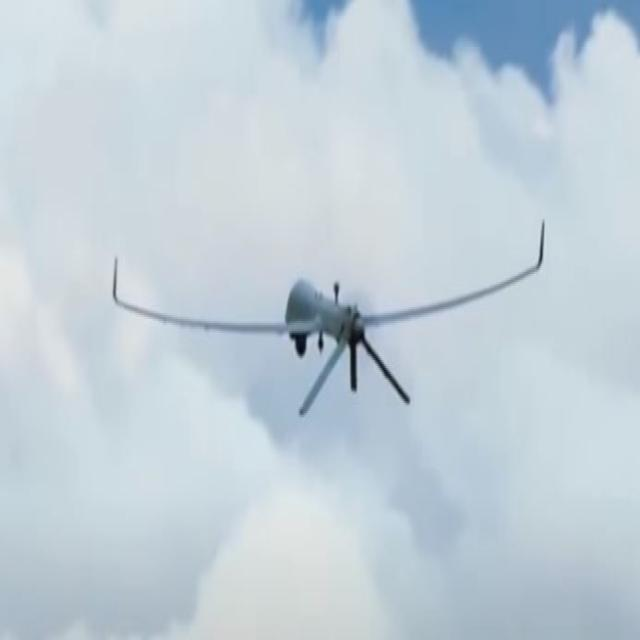iha: (104, 213, 539, 418)
